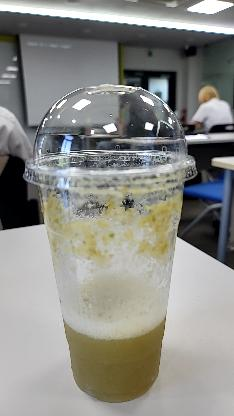Plastic Cup: (22, 83, 198, 407), (22, 85, 204, 196)
